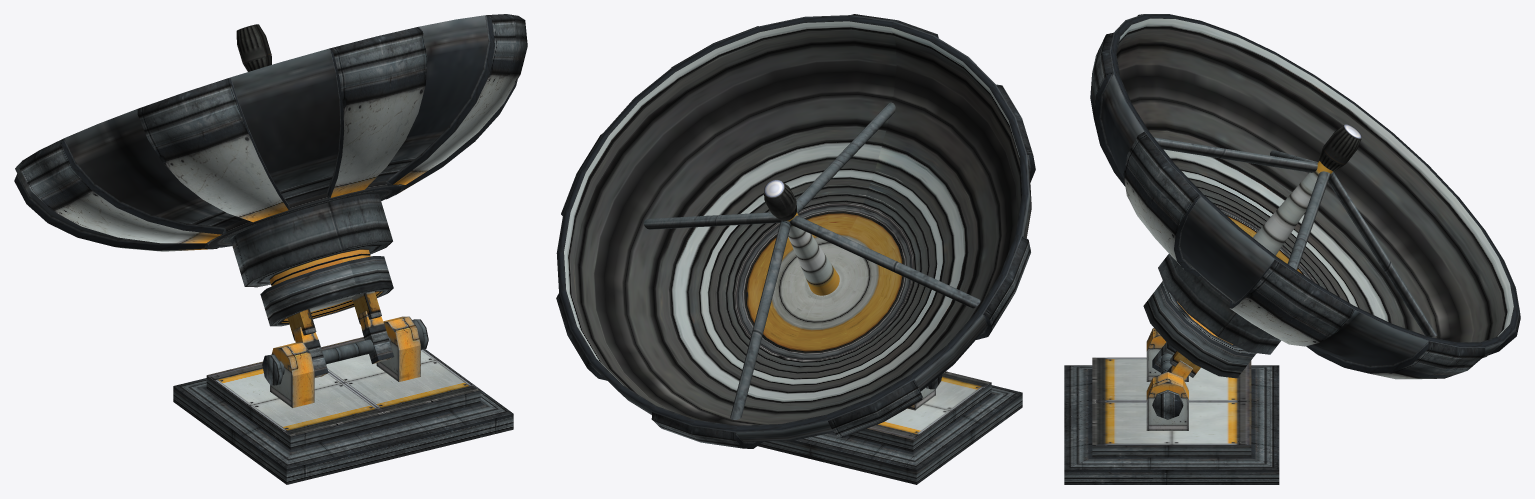
File: antenaparabolica.fbx
The picture shows the model from 3 angles, left to right: view 1: azimuth 30°, elevation 25°; view 2: azimuth 150°, elevation 25°; view 3: azimuth 270°, elevation 25°; orthographic projection. The views are drawn at different scales.
Visible parts, largest first — view 1: Cylinder.001, Cube; view 2: Cylinder.001, Cube; view 3: Cylinder.001, Cube.
Part boxes in pixels (x1=…): Cylinder.001: x1=14, y1=14, x2=527, y2=377; Cube: x1=173, y1=316, x2=513, y2=484; Cylinder.001: x1=556, y1=14, x2=1035, y2=448; Cube: x1=758, y1=371, x2=1022, y2=484; Cylinder.001: x1=1090, y1=14, x2=1520, y2=380; Cube: x1=1064, y1=328, x2=1279, y2=484.
Bounding box in the file's own units: 11.04 × 9.1 × 9.87.
